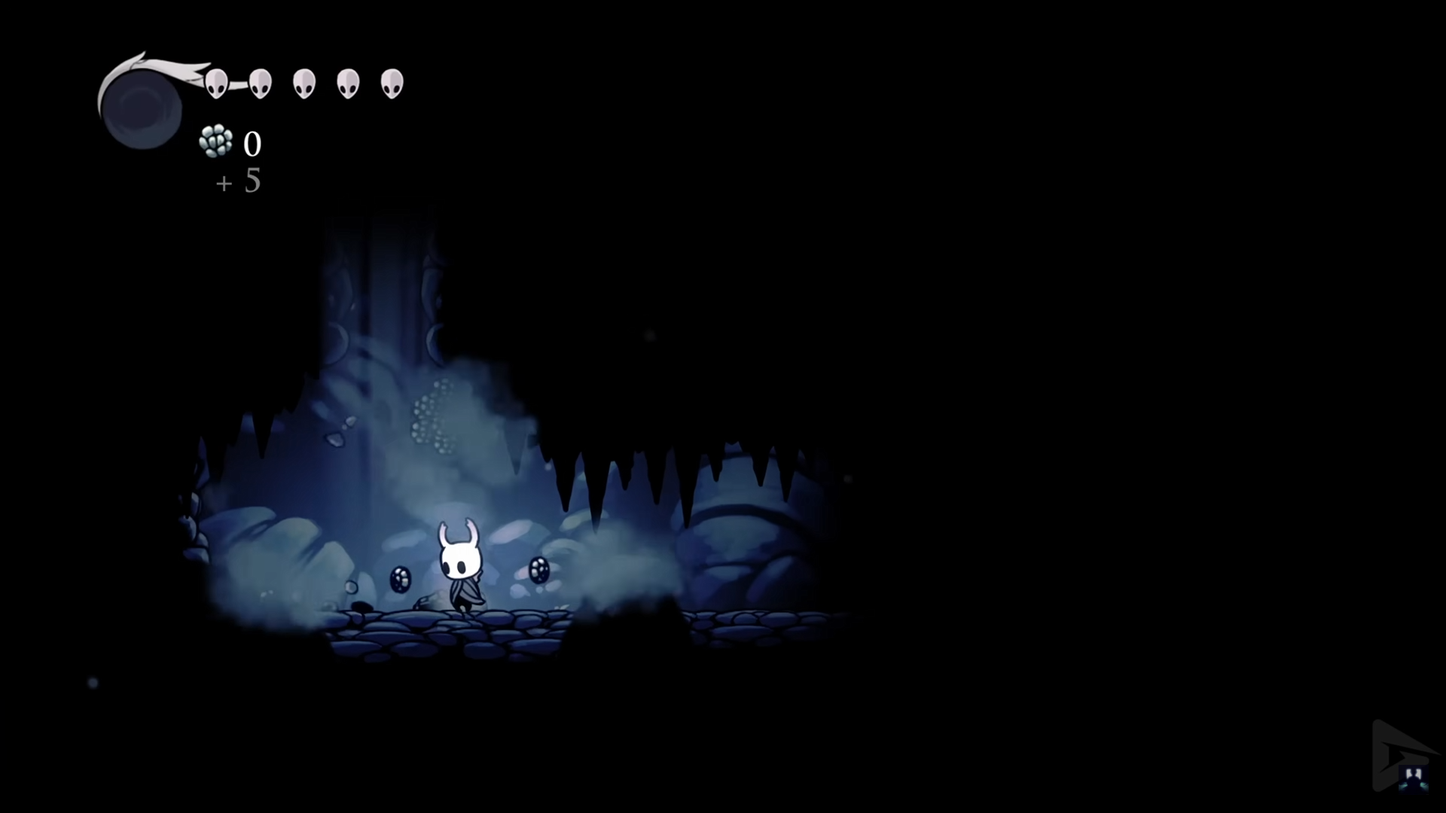HK: (431, 519, 493, 616)
